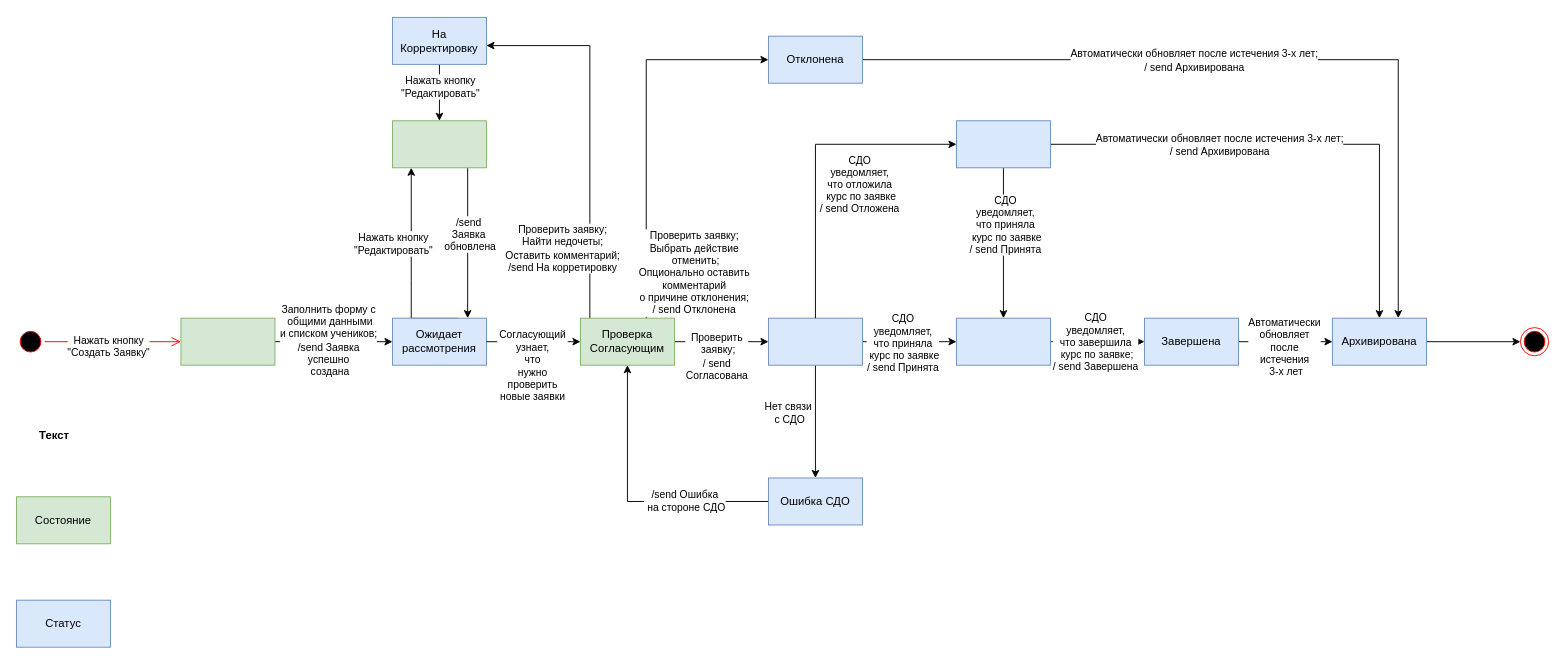
The diagram is 1565 pixels wide and 664 high, and some of its shapes have lost their labels. The box of each missing label's shape, as (x1, y1, x2, y2) in pixels:
Отложена СДО: (956, 120, 1050, 168)
Принята: (956, 317, 1050, 365)
Редактирование заявки: (392, 120, 486, 168)
Согласована: (768, 317, 862, 365)
Создание заявки: (180, 317, 275, 365)
